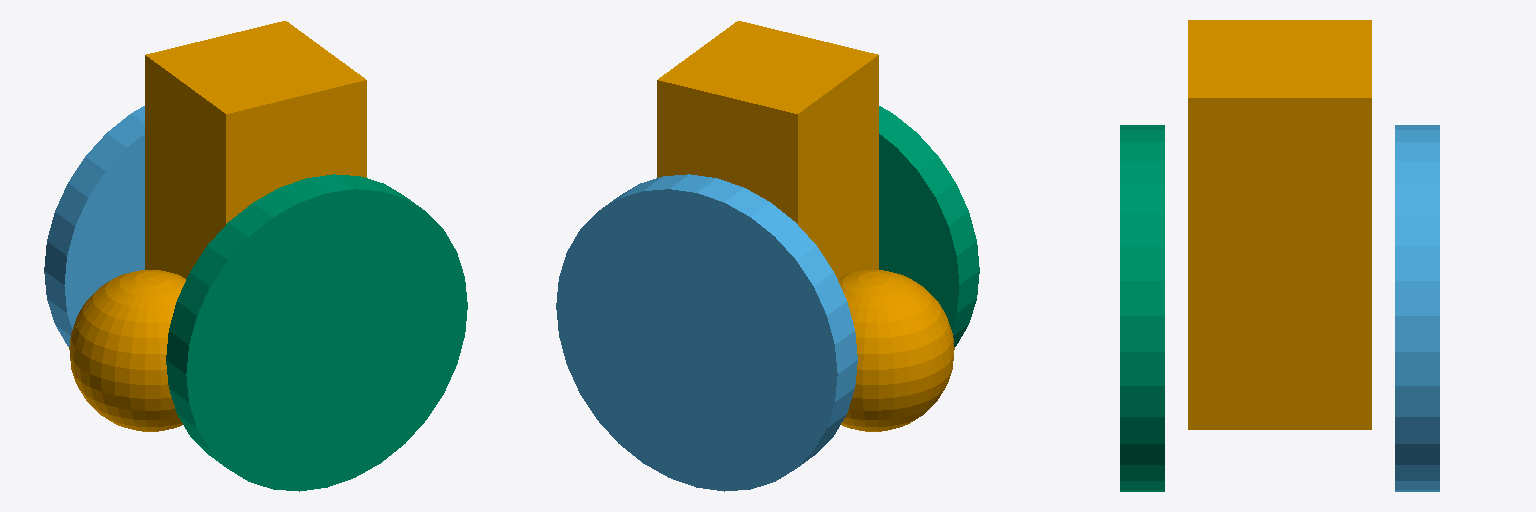
The robot description file, URDF, robot "betabot":
<?xml version="1.0"?>

<robot name="betabot">

  <link name='chassis'>
    <pose>0 0 0.1 0 0 0</pose>

    <inertial>
      <mass value="15.0"/>
      <origin xyz="0.0 0 0.1" rpy=" 0 0 0"/>
      <inertia
          ixx="0.1" ixy="0" ixz="0"
          iyy="0.1" iyz="0"
          izz="0.1"
      />
    </inertial>

    <collision name='collision'>
      <geometry>
        <box size=".2 .2 .4"/>
      </geometry>
    </collision>

    <visual name='chassis_visual'>
      <origin xyz="0 0 0.1" rpy=" 0 0 0"/>
      <geometry>
        <box size=".2 .2 .4"/>
      </geometry>
    </visual>

    <collision name='head_collision'>
      <origin xyz="-0.15 0 -0.05" rpy=" 0 0 0"/>
      <geometry>
        <sphere radius="0.1"/>
      </geometry>
    </collision>

    <visual name='head_visual'>
      <origin xyz="-0.15 0 -0.05" rpy=" 0 0 0"/>
      <geometry>
        <sphere radius="0.1"/>
      </geometry>
    </visual>

  </link>


  <link name="left_wheel">
    <collision name="collision">
      <origin xyz="0 0 0" rpy="0 1.5707 1.5707"/>
      <geometry>
        <cylinder radius="0.2" length="0.05"/>
      </geometry>
    </collision>
    <visual name="left_wheel_visual">
      <origin xyz="0 0 0" rpy="0 1.5707 1.5707"/>
      <geometry>
        <cylinder radius="0.2" length="0.05"/>
      </geometry>
    </visual>
    <inertial>
      <origin xyz="0 0 0" rpy="0 1.5707 1.5707"/>
      <mass value="5"/>
      <inertia
        ixx=".1" ixy="0.0" ixz="0.0"
        iyy=".1" iyz="0.0"
        izz=".1"/>
    </inertial>
  </link>

  <link name="right_wheel">
    <collision name="collision">
      <origin xyz="0 0 0" rpy="0 1.5707 1.5707"/>
      <geometry>
        <cylinder radius="0.2" length="0.05"/>
      </geometry>
    </collision>
    <visual name="right_wheel_visual">
      <origin xyz="0 0 0" rpy="0 1.5707 1.5707"/>
      <geometry>
        <cylinder radius="0.2" length="0.05"/>
      </geometry>
    </visual>
    <inertial>
      <origin xyz="0 0 0" rpy="0 1.5707 1.5707"/>
      <mass value="5"/>
      <inertia
        ixx=".1" ixy="0.0" ixz="0.0"
        iyy=".1" iyz="0.0"
        izz=".1"/>
    </inertial>
  </link>


  <joint type="continuous" name="left_wheel_hinge">
    <origin xyz="0 0.15 0" rpy="0 0 0"/>
    <child link="left_wheel"/>
    <parent link="chassis"/>
    <axis xyz="0 1 0" rpy="0 0 0"/>
    <limit effort="10000" velocity="1000"/>
    <joint_properties damping="1.0" friction="1.0"/>
  </joint>

  <joint type="continuous" name="right_wheel_hinge">
    <origin xyz="0 -0.15 0" rpy="0 0 0"/>
    <child link="right_wheel"/>
    <parent link="chassis"/>
    <axis xyz="0 1 0" rpy="0 0 0"/>
    <limit effort="10000" velocity="1000"/>
    <joint_properties damping="1.0" friction="1.0"/>
  </joint>

</robot>

--- Render facts (derived) ---
The picture shows the robot from 3 angles, left to right: view 1: azimuth 30°, elevation 25°; view 2: azimuth 150°, elevation 25°; view 3: azimuth 270°, elevation 25°; orthographic projection.
Model betabot with 3 links and 2 joints (2 continuous), rooted at chassis, posed all joints at 0.
Links seen in each view (by area): view 1: right_wheel, chassis, left_wheel; view 2: left_wheel, chassis, right_wheel; view 3: chassis, left_wheel, right_wheel.
Boxes of the visible links, bbox=[...] form: right_wheel: bbox=[166, 174, 467, 491]; chassis: bbox=[69, 21, 366, 431]; left_wheel: bbox=[44, 106, 144, 346]; left_wheel: bbox=[556, 174, 857, 491]; chassis: bbox=[657, 21, 954, 431]; right_wheel: bbox=[879, 106, 979, 346]; chassis: bbox=[1188, 20, 1371, 429]; left_wheel: bbox=[1395, 125, 1439, 491]; right_wheel: bbox=[1120, 125, 1164, 491].
Size in the robot's own frame: 0.45 by 0.3501 by 0.5 metres.
Geometry: primitives only (box / cylinder / sphere), no mesh files.